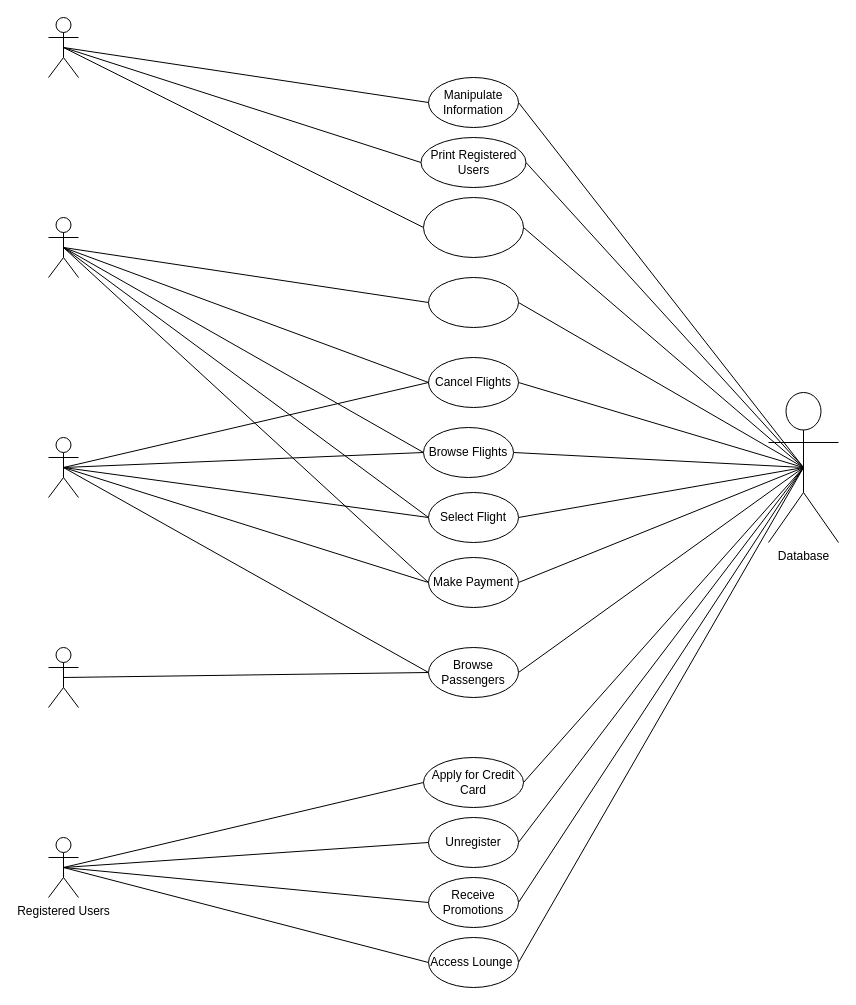
This 856x1005 diagram has some shape labels left out. Each missing label, with the centre of its shape:
"Airline Agent" belongs at (x=63, y=467).
"Browse System Database" belongs at (x=473, y=227).
"Flight Attendant" belongs at (x=63, y=677).
"Register" belongs at (x=473, y=302).
"System Admin" belongs at (x=63, y=47).
"Users" belongs at (x=63, y=247).
